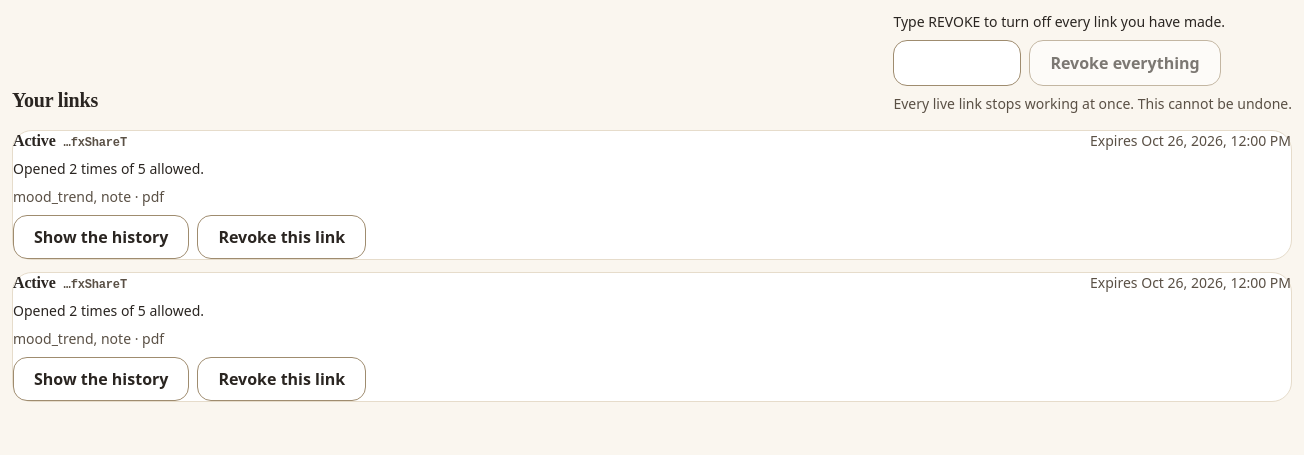
Test: ShareLinks › needs the typed word before revoking everything
Expected: the button with test id "share-revoke-all" is disabled, [1029, 40, 1221, 86]
Type "revoke" into the field with test id "share-revoke-all-input" at (957, 63), box [893, 40, 1021, 86]
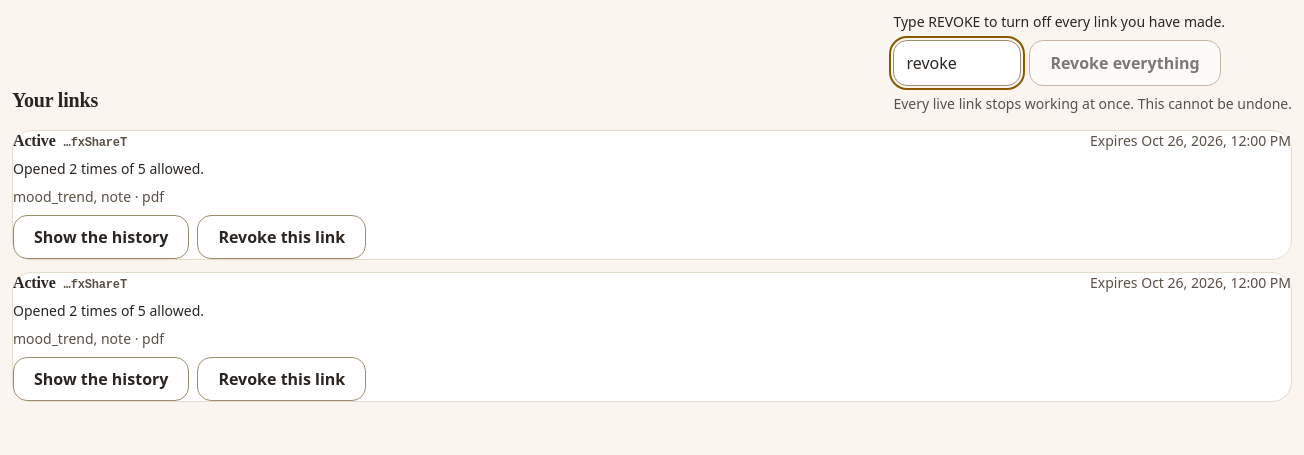
Expected: the button with test id "share-revoke-all" is disabled, [1029, 40, 1221, 86]
Replace the text in the field with test id "share-revoke-all-input" with "REVOKE" at (957, 63), box [893, 40, 1021, 86]
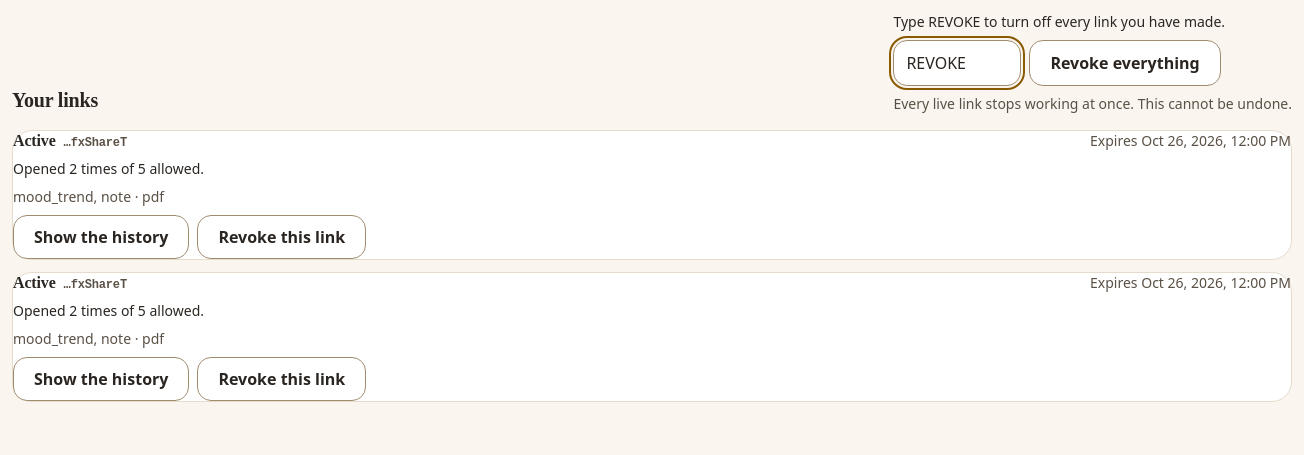
Result: the button with test id "share-revoke-all" is enabled
Click the button with test id "share-revoke-all" at (1125, 63), box [1029, 40, 1221, 86]
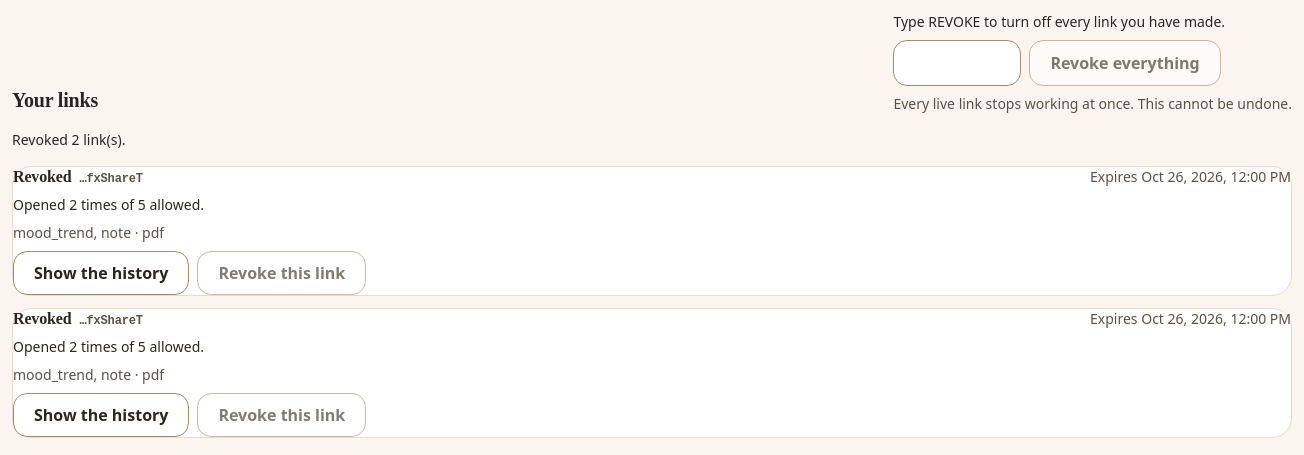
Result: the message with test id "share-revoked-notice" shows "Revoked 2" at [12, 130, 125, 149]
Result: the button with test id "share-revoke-all" is disabled at [1029, 40, 1221, 86]
